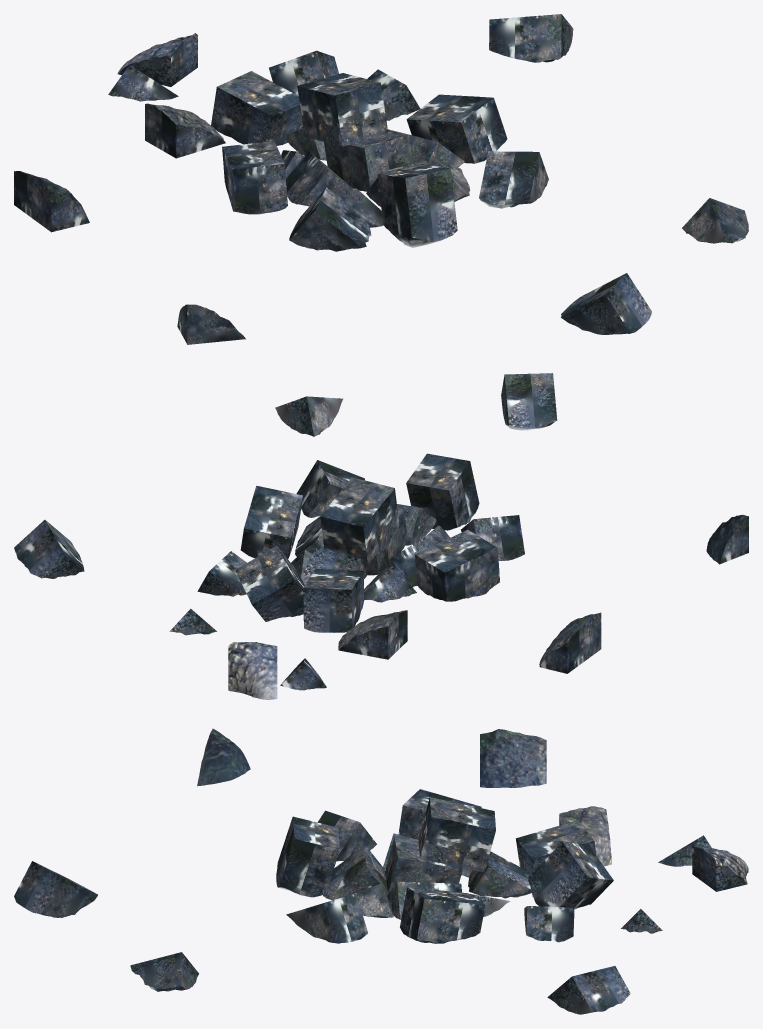
The model's file is avocado_chop.obj.
3 renders of one model, top to bottom at view 1: azimuth 30°, elevation 25°; view 2: azimuth 150°, elevation 25°; view 3: azimuth 270°, elevation 25°, orthographic. The views are drawn at different scales.
Visible parts, largest first — view 1: avocado.001_Mesh.001; view 2: avocado.001_Mesh.001; view 3: avocado.001_Mesh.001.
Part boxes in pixels (box(x1,y1,x2,y2)): avocado.001_Mesh.001: box(14, 14, 748, 344); avocado.001_Mesh.001: box(14, 373, 748, 699); avocado.001_Mesh.001: box(14, 728, 748, 1014).
Size of the model in its own units: 4.15 by 0.636 by 4.94.
